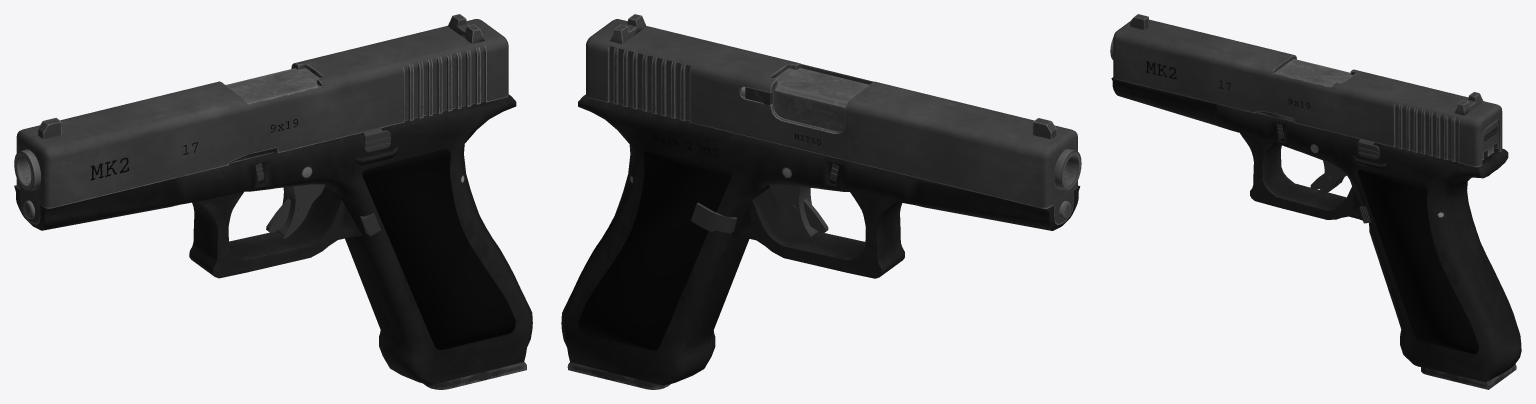
File: 9mm_pistol.glb
3 views of the same model, side by side, from view 1: azimuth 30°, elevation 25°; view 2: azimuth 150°, elevation 25°; view 3: azimuth 330°, elevation 25° (orthographic). The views are drawn at different scales.
Visible parts, largest first — view 1: Cube.005_9m2_0, Cube.005_9m1_0; view 2: Cube.005_9m2_0, Cube.005_9m1_0; view 3: Cube.005_9m2_0, Cube.005_9m1_0.
Boxes of the visible parts, left/top/right/bottom form: Cube.005_9m2_0: left=14, top=14, right=526, bottom=389; Cube.005_9m1_0: left=14, top=94, right=532, bottom=384; Cube.005_9m2_0: left=567, top=14, right=1081, bottom=389; Cube.005_9m1_0: left=561, top=94, right=1080, bottom=384; Cube.005_9m2_0: left=1110, top=14, right=1516, bottom=389; Cube.005_9m1_0: left=1111, top=77, right=1521, bottom=381.
Bounding box in the file's own units: 2.4 × 1.58 × 0.334.
Materials: 2 (2 with a texture image).
